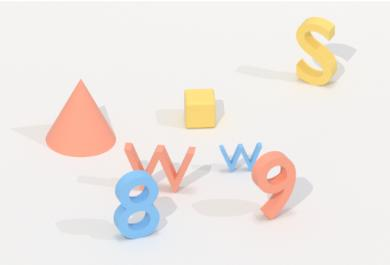0-KhoiVuong: (180, 83, 220, 135)
0-TamGiac: (39, 77, 118, 160)
8: (112, 169, 160, 241)
9: (250, 150, 300, 224)
S: (290, 14, 340, 88)
W: (121, 135, 195, 194), (215, 136, 260, 174)
